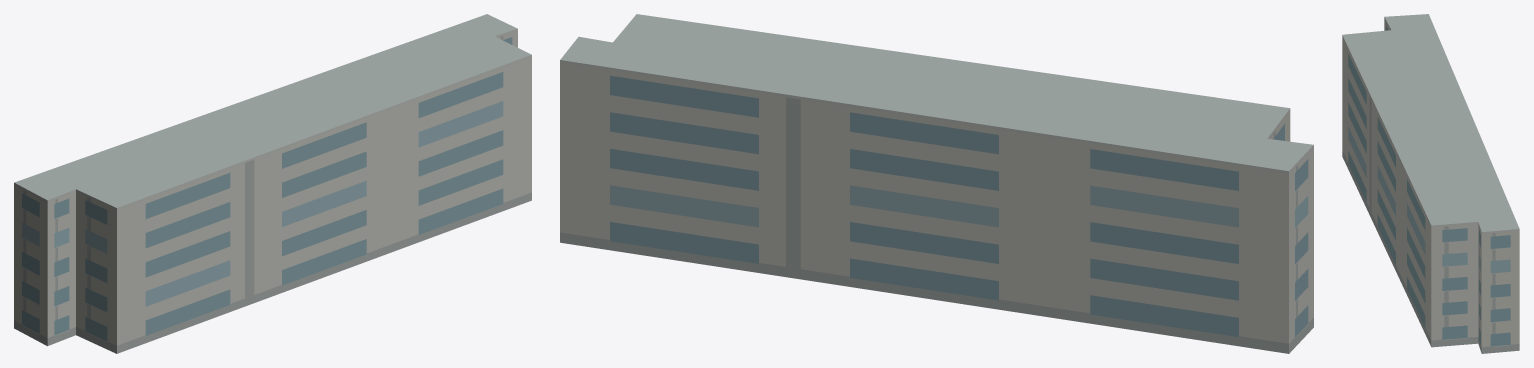
The model's file is residential-ef715142-f09e-4c7f-9b8a-632a52b875e9.glb.
The picture shows the model from 3 angles, left to right: view 1: azimuth 30°, elevation 25°; view 2: azimuth 150°, elevation 25°; view 3: azimuth 270°, elevation 25°; orthographic projection. The views are drawn at different scales.
Visible parts, largest first — view 1: residential-ef715142-f09e-4c7f-9b8a-632a52b875e9.tmp; view 2: residential-ef715142-f09e-4c7f-9b8a-632a52b875e9.tmp; view 3: residential-ef715142-f09e-4c7f-9b8a-632a52b875e9.tmp.
Part boxes in pixels (<box>): residential-ef715142-f09e-4c7f-9b8a-632a52b875e9.tmp: <box>14,14,531,353</box>; residential-ef715142-f09e-4c7f-9b8a-632a52b875e9.tmp: <box>560,14,1313,353</box>; residential-ef715142-f09e-4c7f-9b8a-632a52b875e9.tmp: <box>1342,14,1519,353</box>.
Size of the model in its own units: 58.6 by 15.25 by 20.15.
